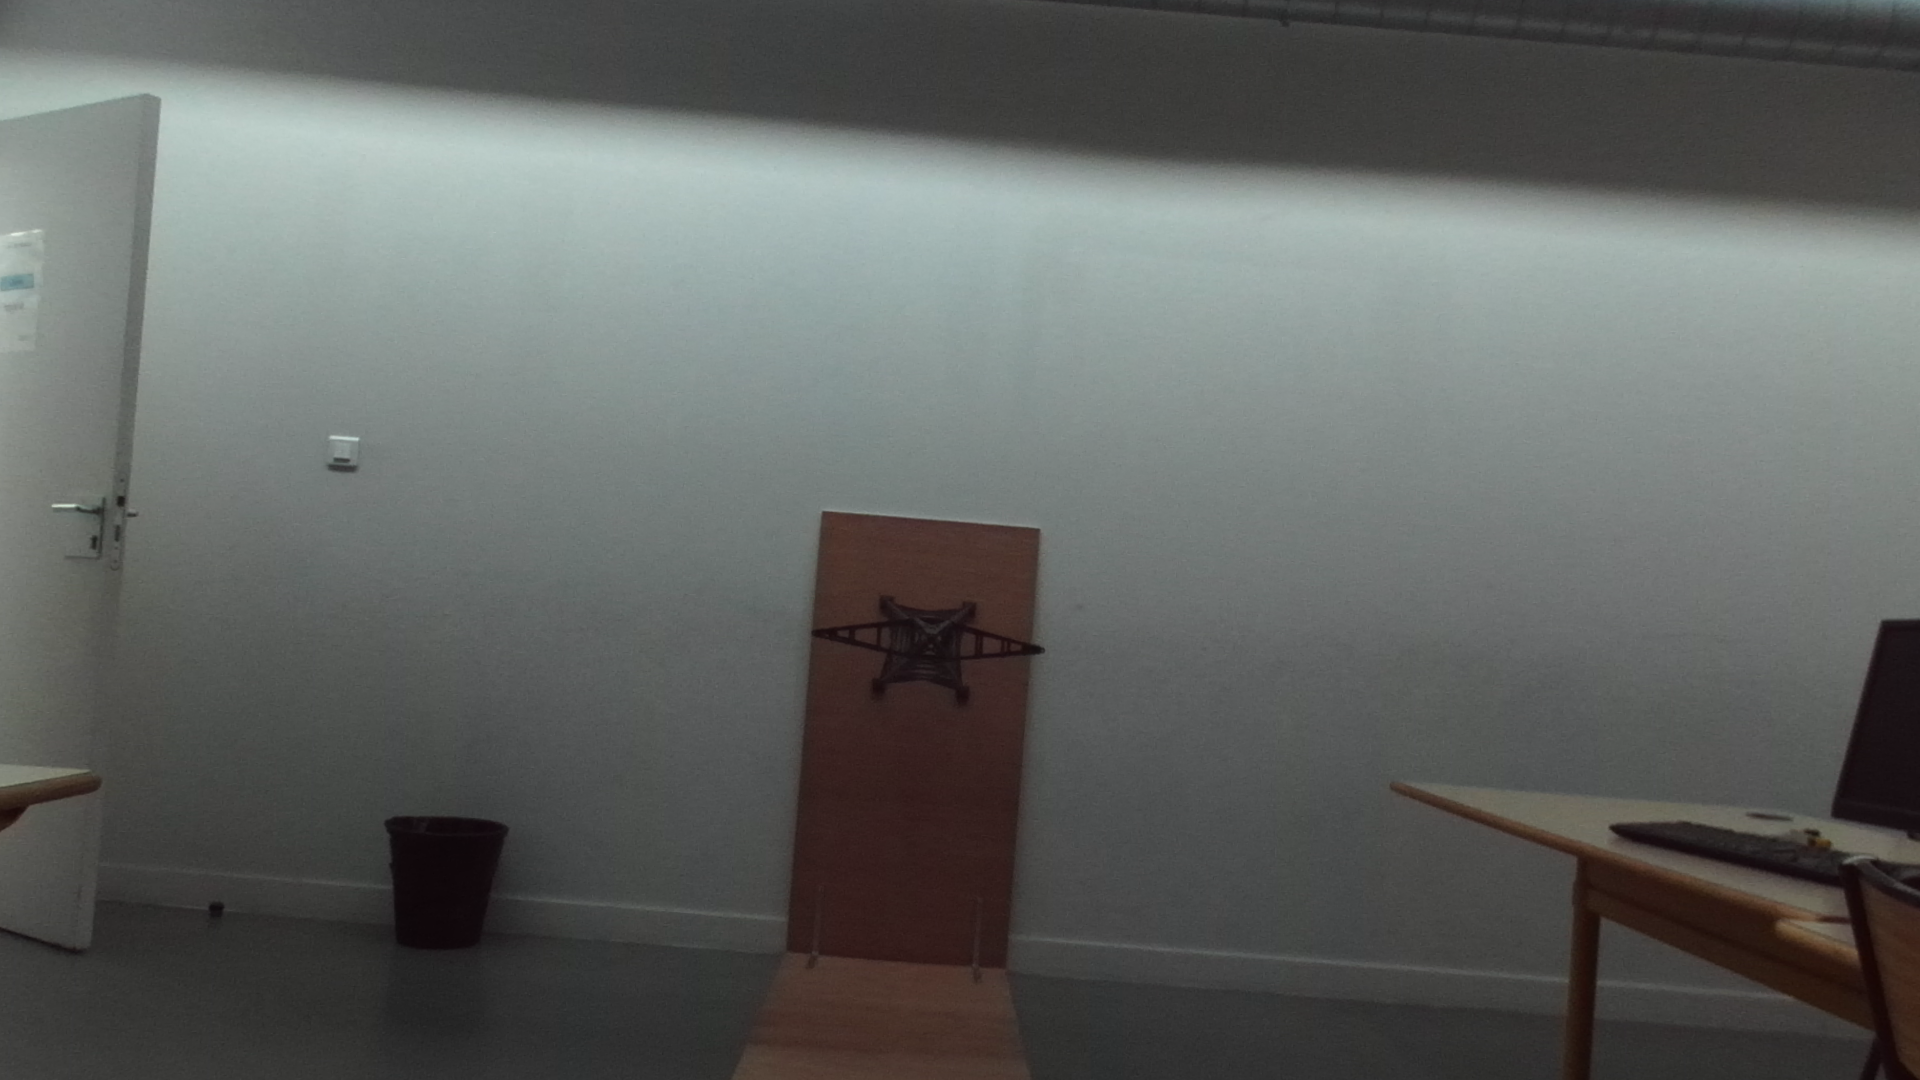pylon_phy: (810, 618, 1048, 665)
